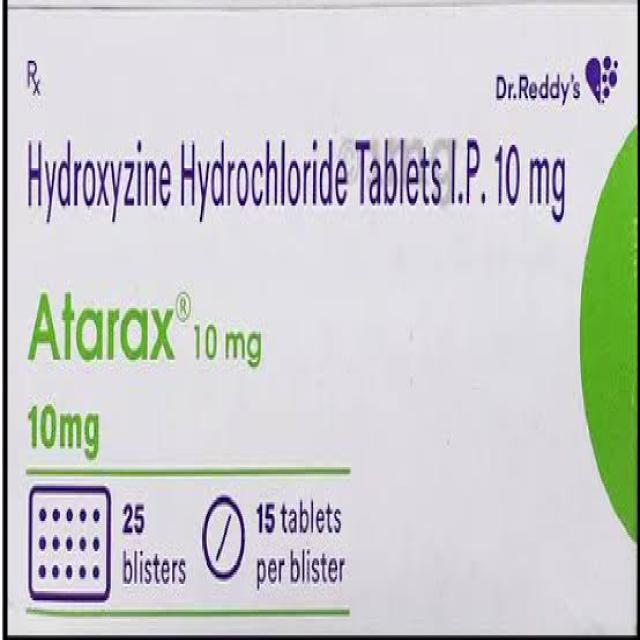drug-name: (28, 288, 176, 364)
